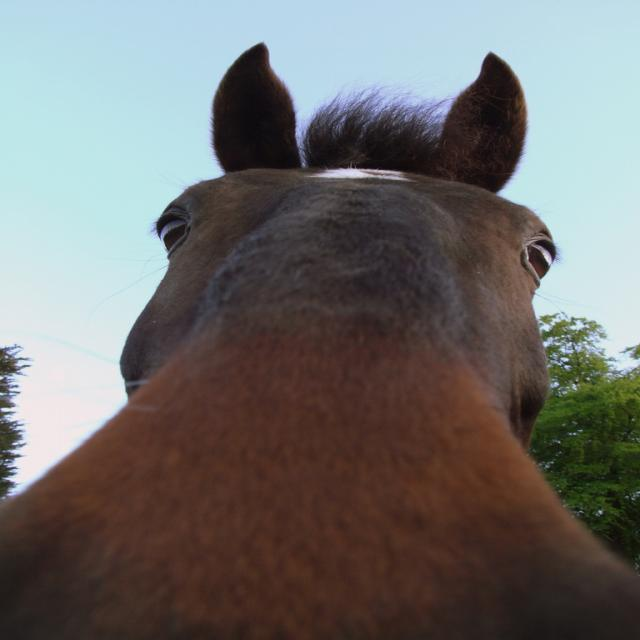Horse: (0, 38, 639, 639)
